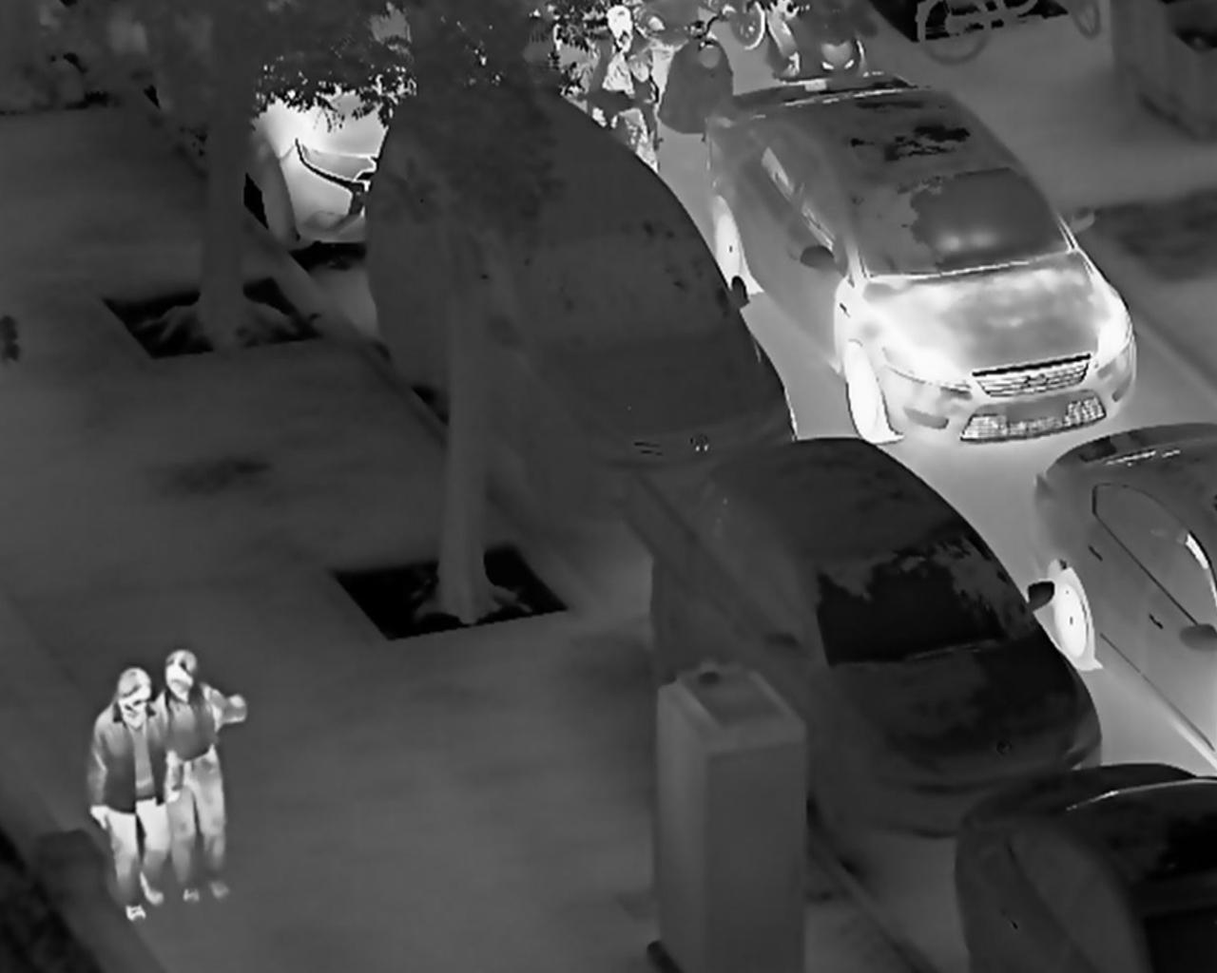person: (150, 645, 253, 908), (87, 663, 173, 925), (579, 4, 662, 177)
